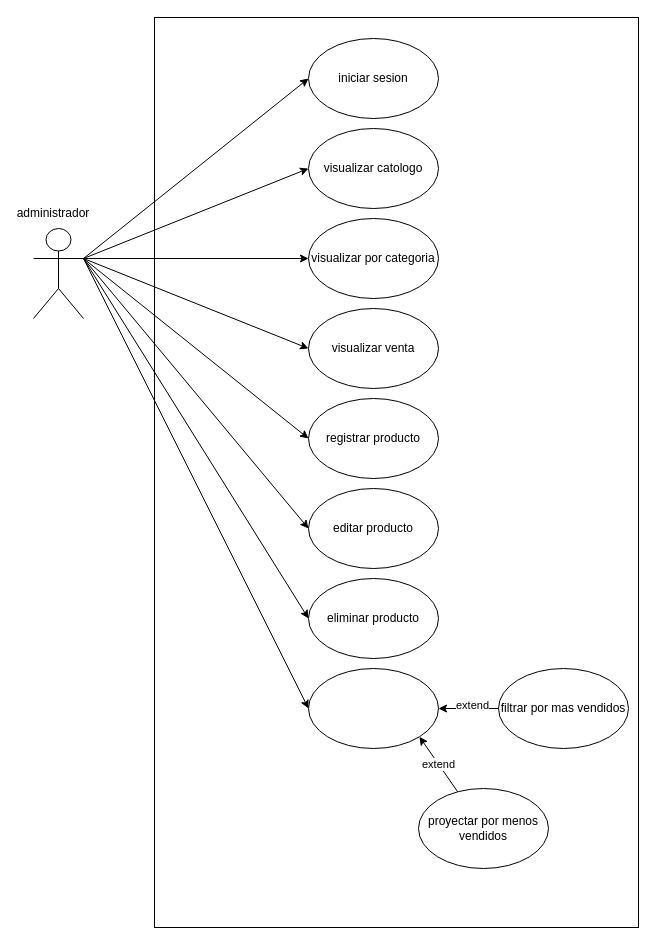
The diagram is 656 pixels wide and 945 high, and some of its shapes have lost their labels. Each missing label, with the centre of its shape:
"Actor" goes at (58,273).
"mostrar informes" goes at (373,708).
